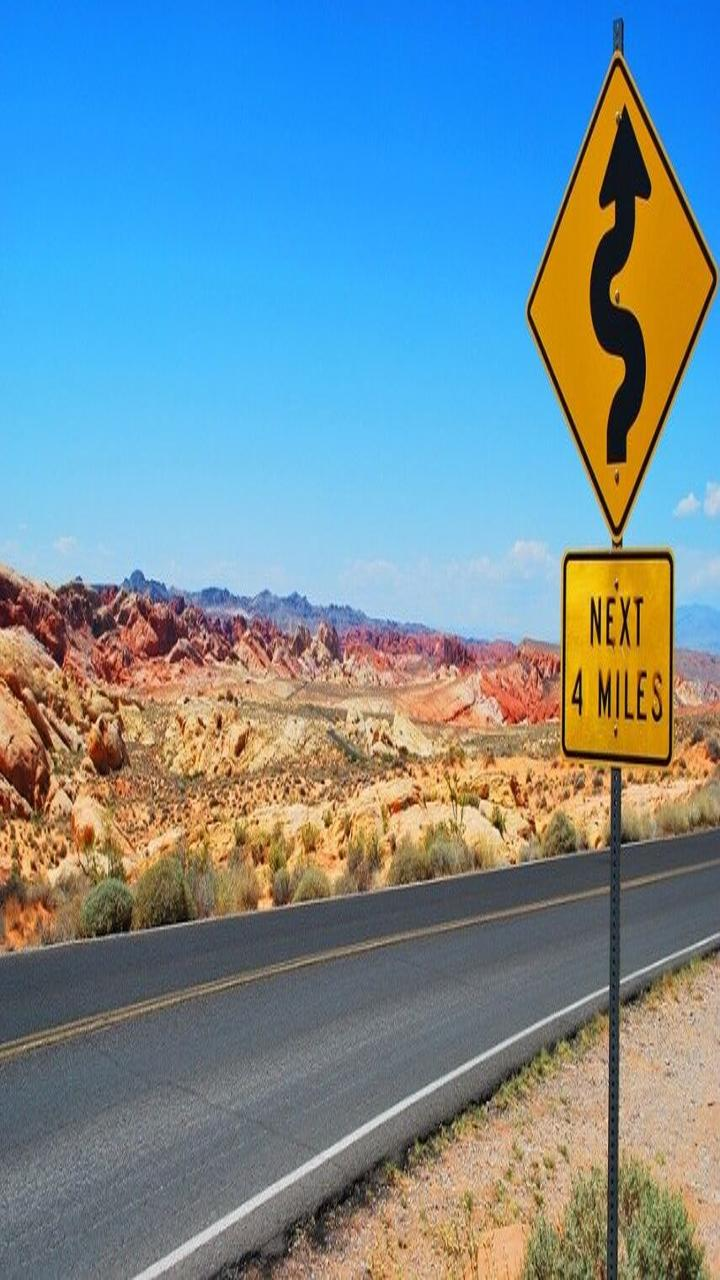Traffic sign: (513, 1, 720, 545), (540, 532, 702, 788)
